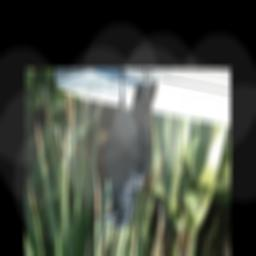Crow: (104, 69, 158, 230)
